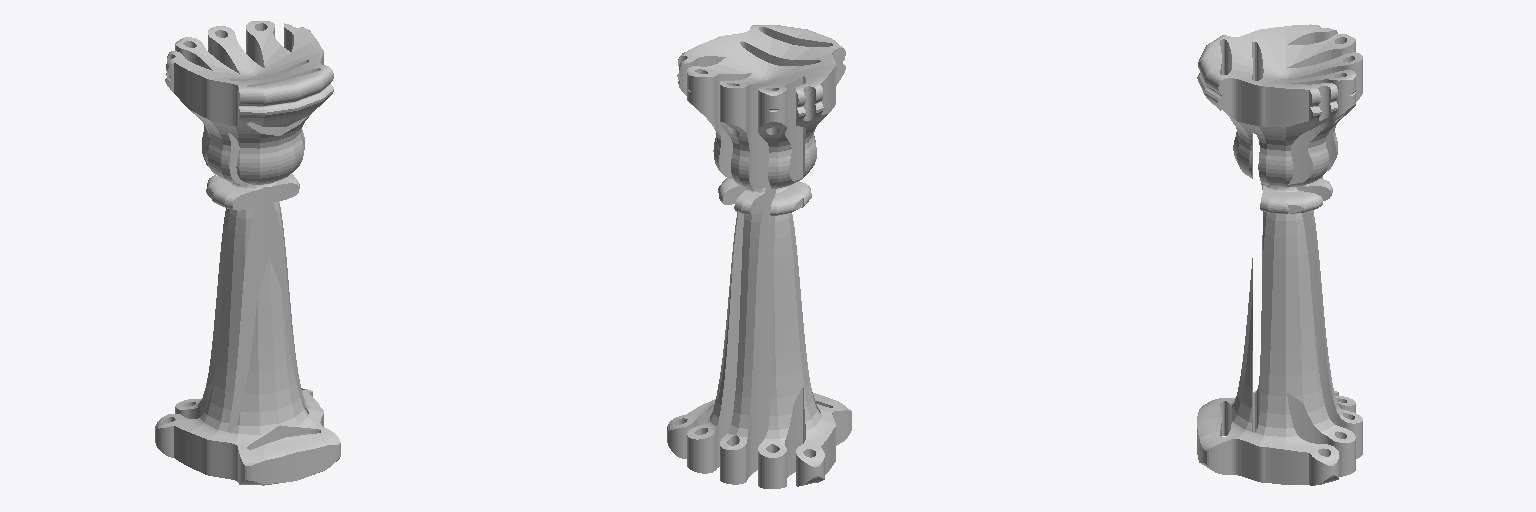
The model's file is Queen.obj.
The picture shows the model from 3 angles: view 1: azimuth 30°, elevation 25°; view 2: azimuth 150°, elevation 25°; view 3: azimuth 270°, elevation 25°; orthographic projection.
Parts seen in each view (by area): view 1: 3D.Black.Queen_BezierCurve.013; view 2: 3D.Black.Queen_BezierCurve.013; view 3: 3D.Black.Queen_BezierCurve.013.
Boxes of the visible parts, x1=… form: 3D.Black.Queen_BezierCurve.013: x1=155, y1=21, x2=340, y2=485; 3D.Black.Queen_BezierCurve.013: x1=667, y1=25, x2=851, y2=488; 3D.Black.Queen_BezierCurve.013: x1=1197, y1=24, x2=1362, y2=485.
Size of the model in its own units: 2.13 by 5.24 by 1.98.